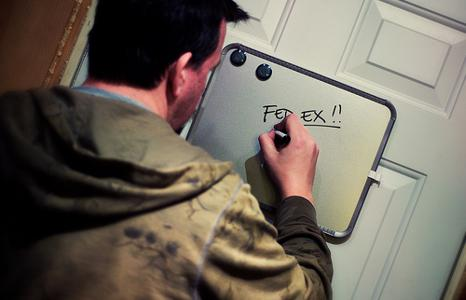person: (2, 2, 334, 300)
